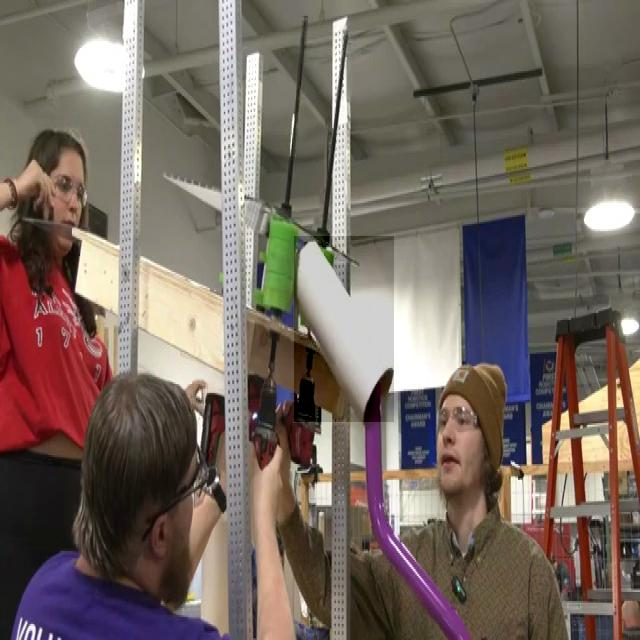Coral: (294, 236, 394, 422)
